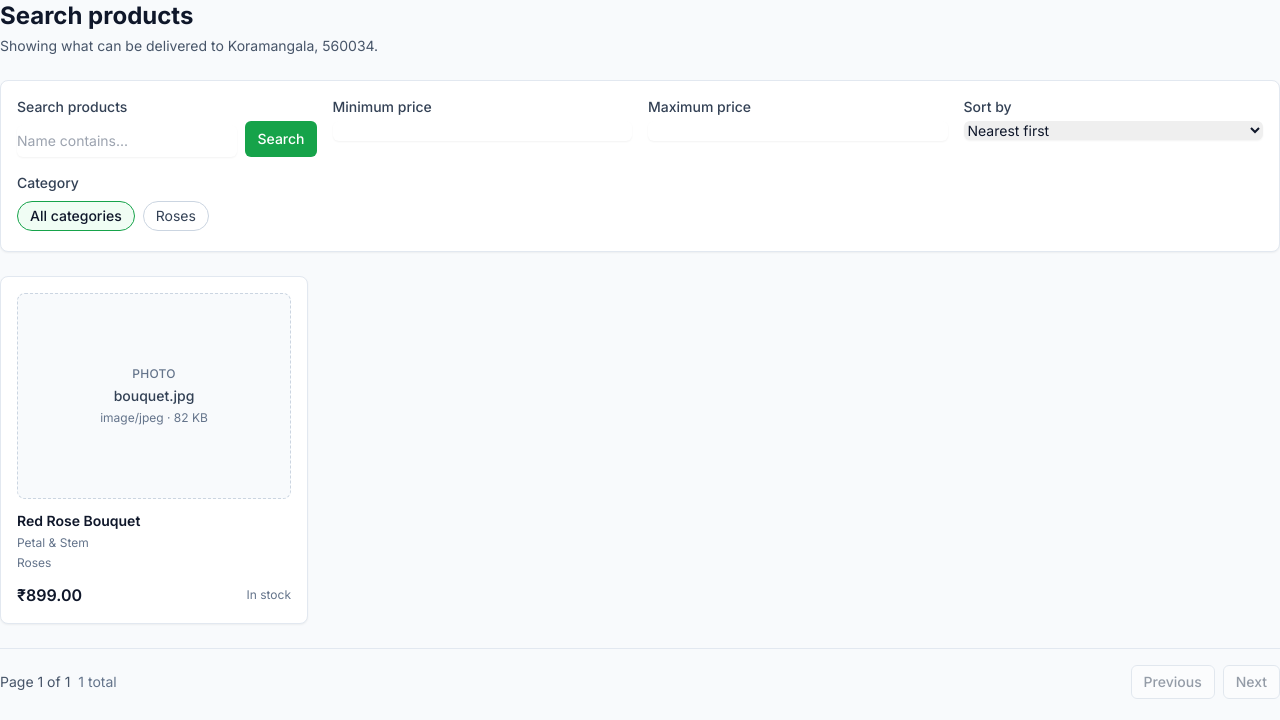
Test case: SearchPage › returns to the results when the product is dismissed
Click the link "Red Rose Bouquet" at (79, 520), box [17, 512, 140, 528]
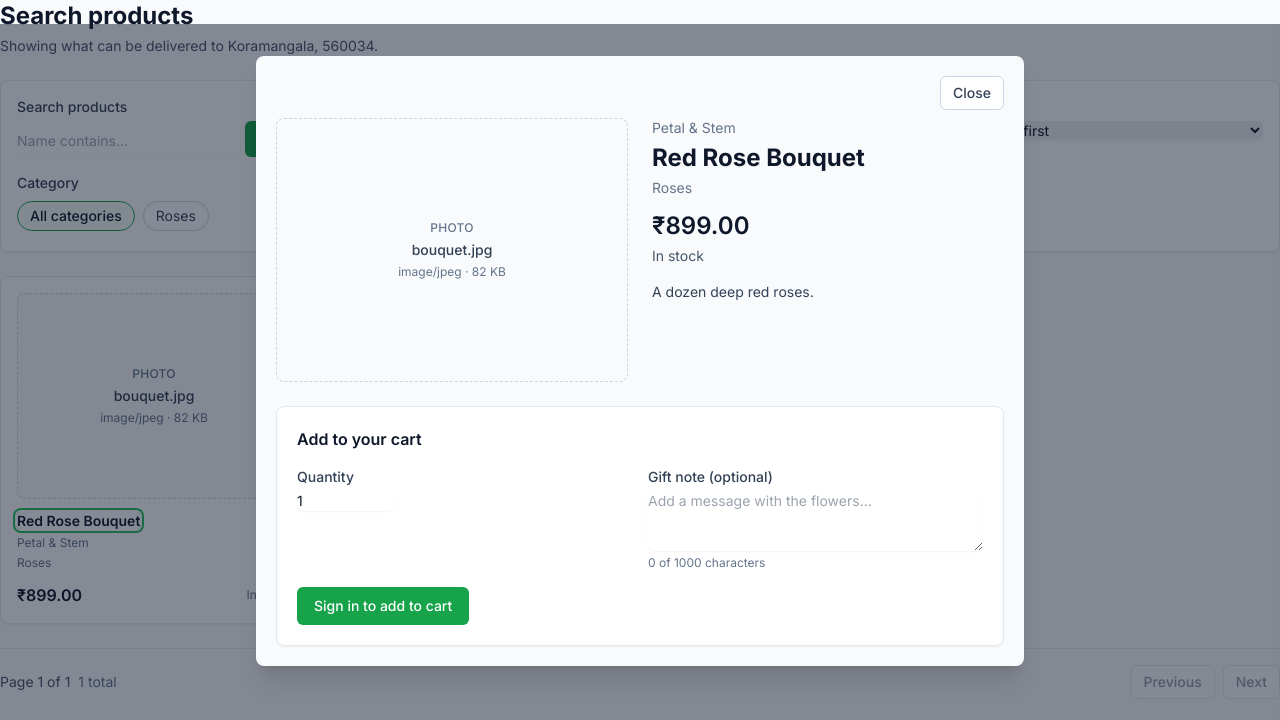
Now the dialog is shown
Click the button with aria-label "Close product details" at (972, 93), box [940, 76, 1004, 110]
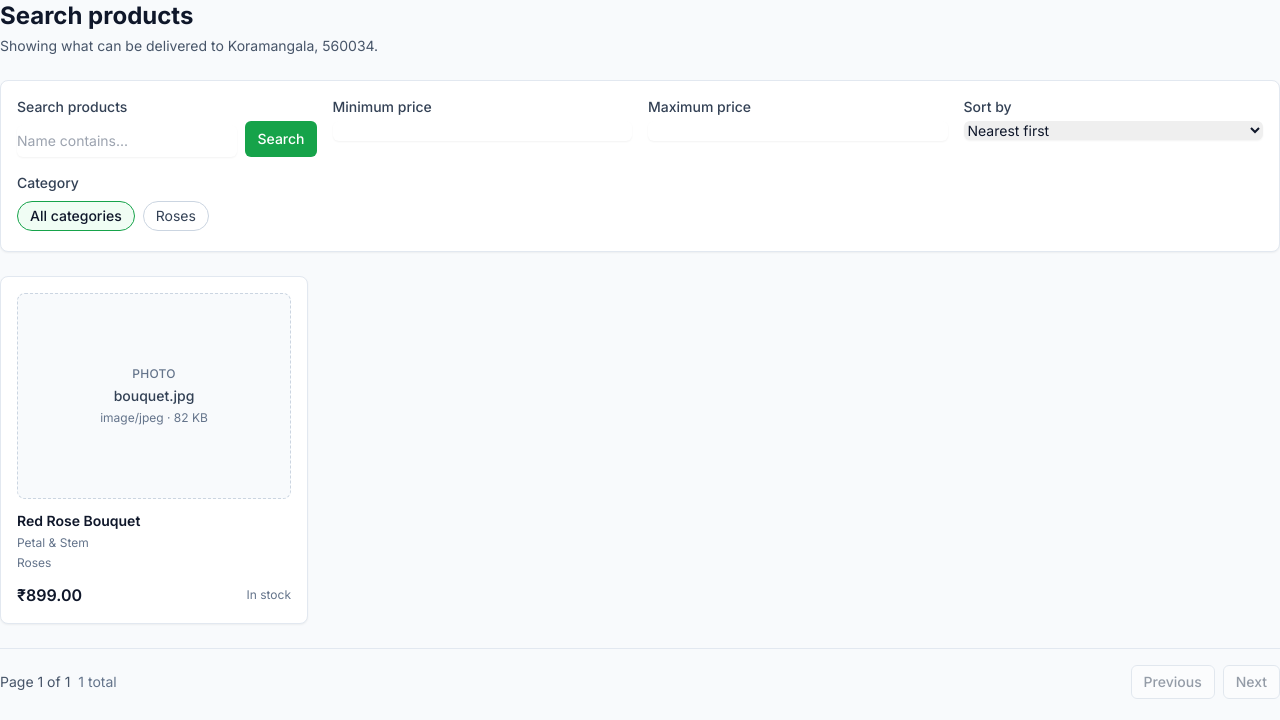
Now the dialog is gone
